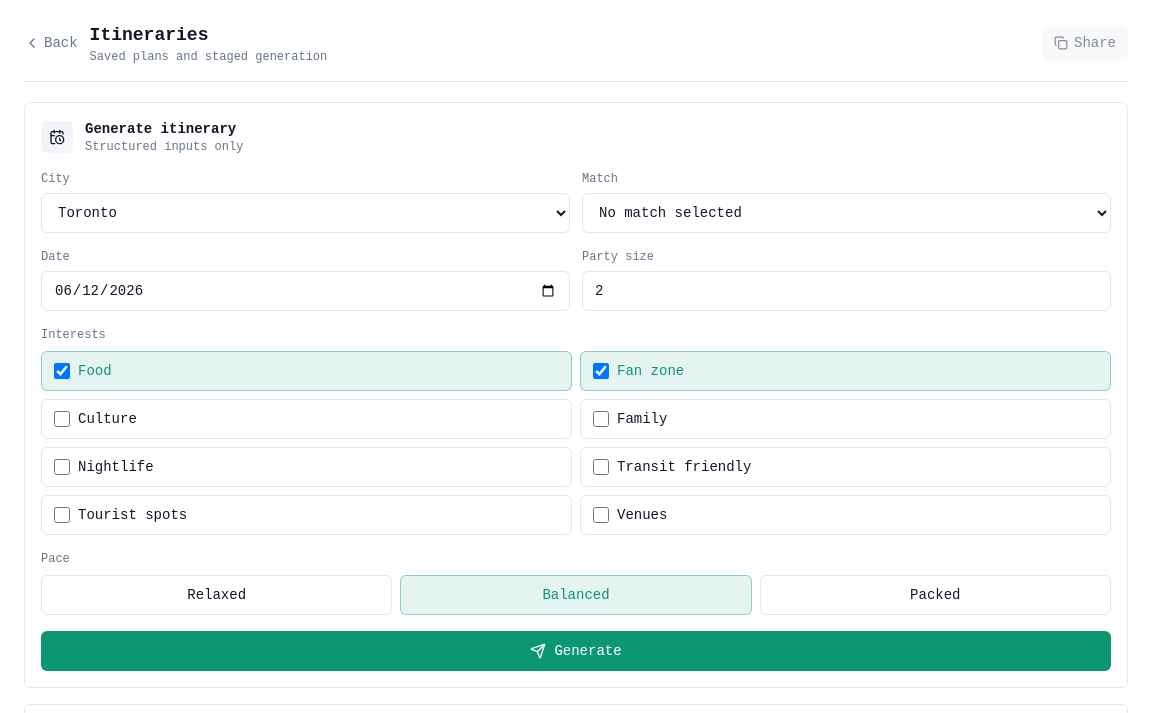
Test case: ItineraryWorkspace › submits the form to the generation stub on explicit generate
Click the button "Generate".
click(576, 651)  # box [41,631,1111,671]
(page scrolled)
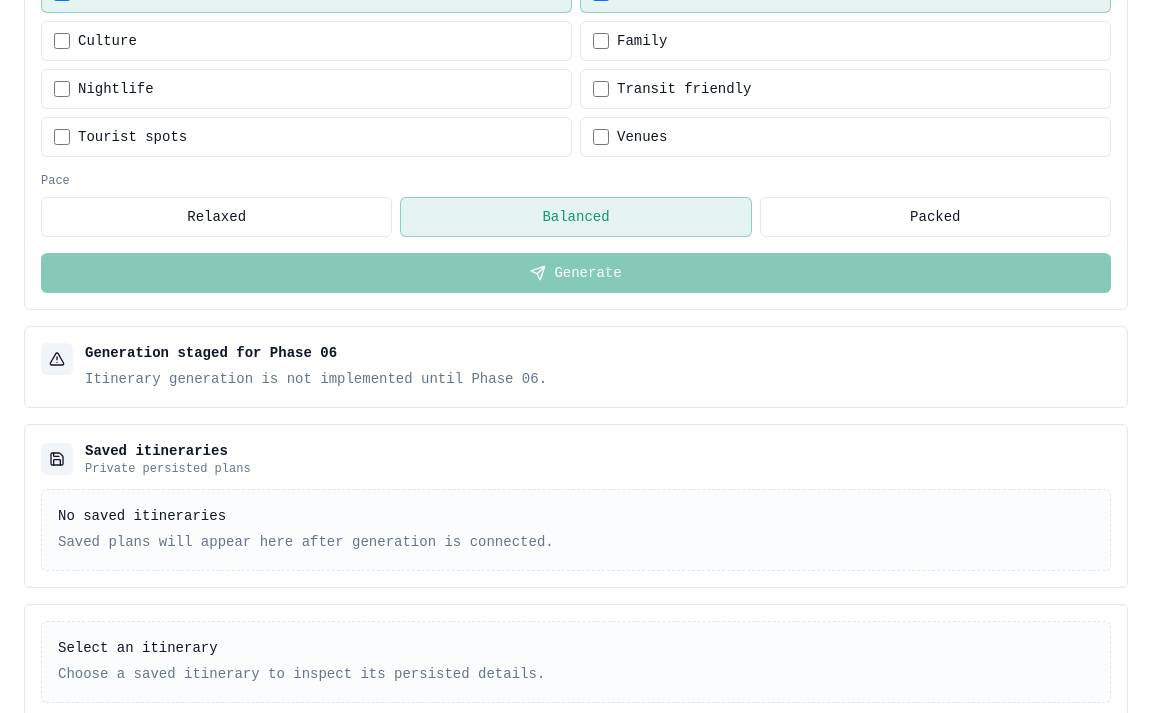
Now the heading "Generation staged for Phase 06" is shown, box [85,345,337,361]
